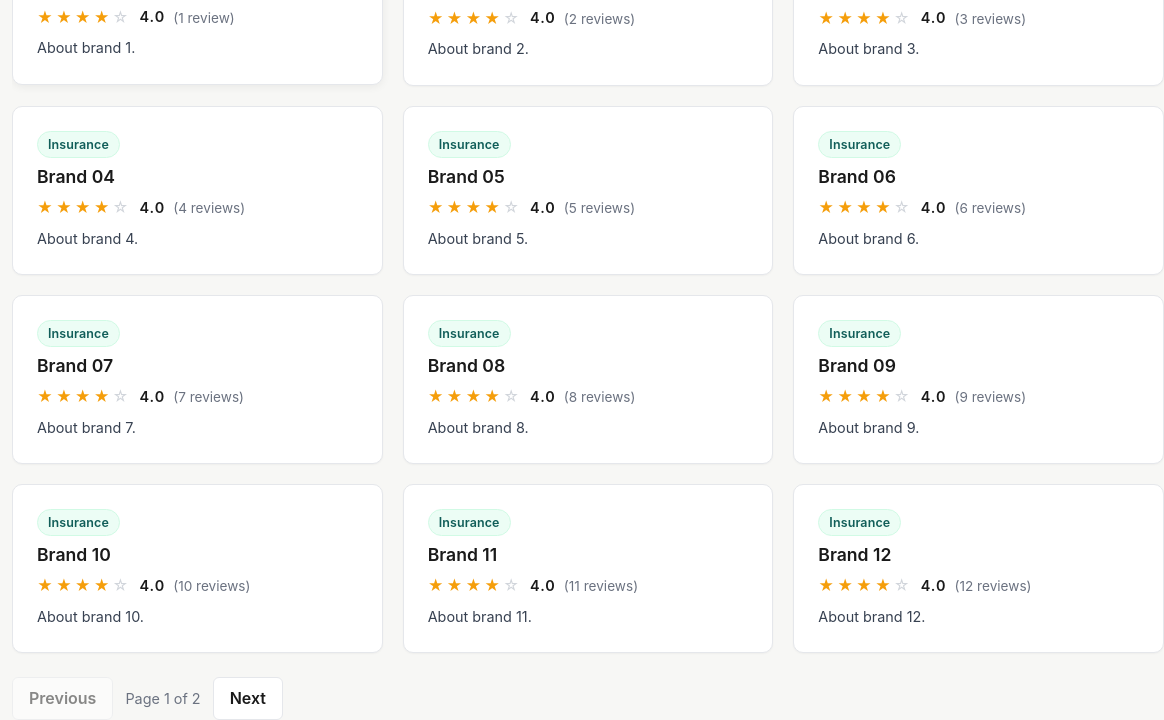
Test case: pagination › keeps unavailable buttons visible but disabled
(page scrolled)
Check: the text "Page 1 of 2" is shown, box top-left (125, 688), bottom-right (201, 710)
Check: the button "Previous" is disabled, box top-left (12, 677), bottom-right (113, 719)
Click the button "Next": (248, 699) top-left (213, 677), bottom-right (283, 719)
(page scrolled)
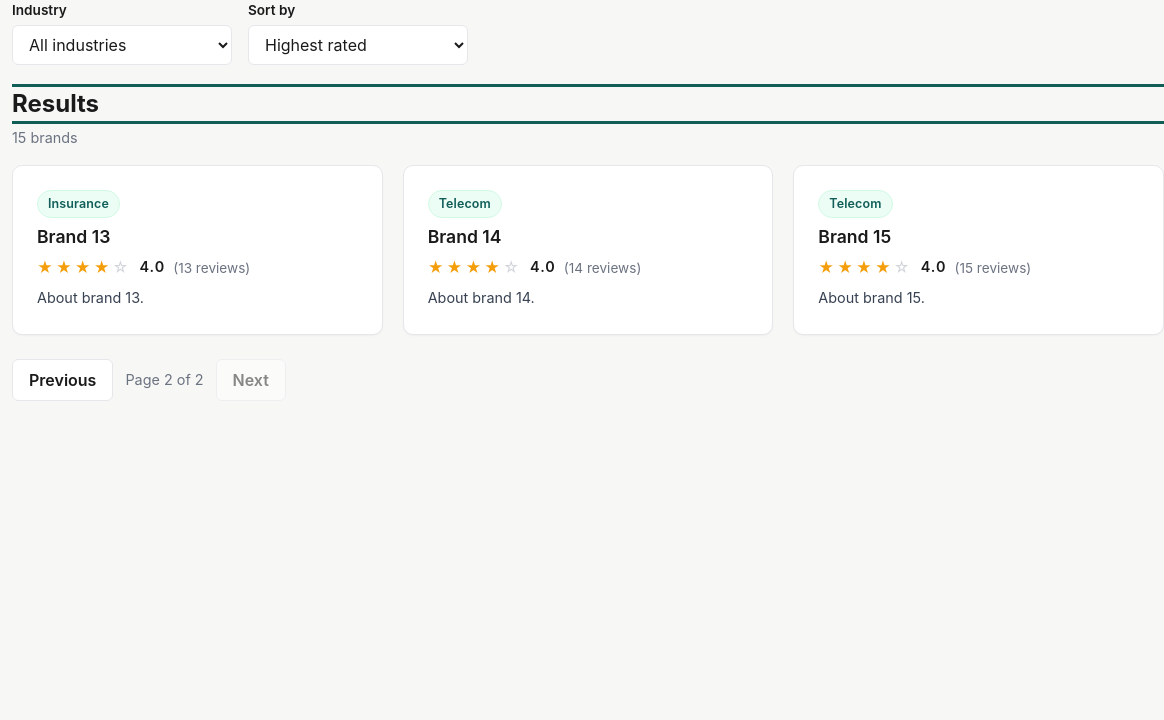
Check: the text "Page 2 of 2" is shown, box top-left (125, 369), bottom-right (204, 391)
Check: the button "Next" is disabled, box top-left (216, 359), bottom-right (286, 401)
Check: the button "Previous" is enabled, box top-left (12, 359), bottom-right (113, 401)
